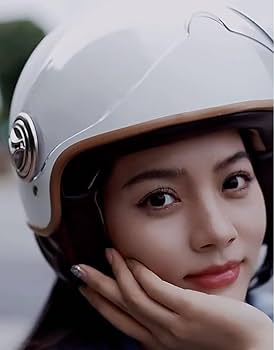helmets: (9, 0, 274, 240)
